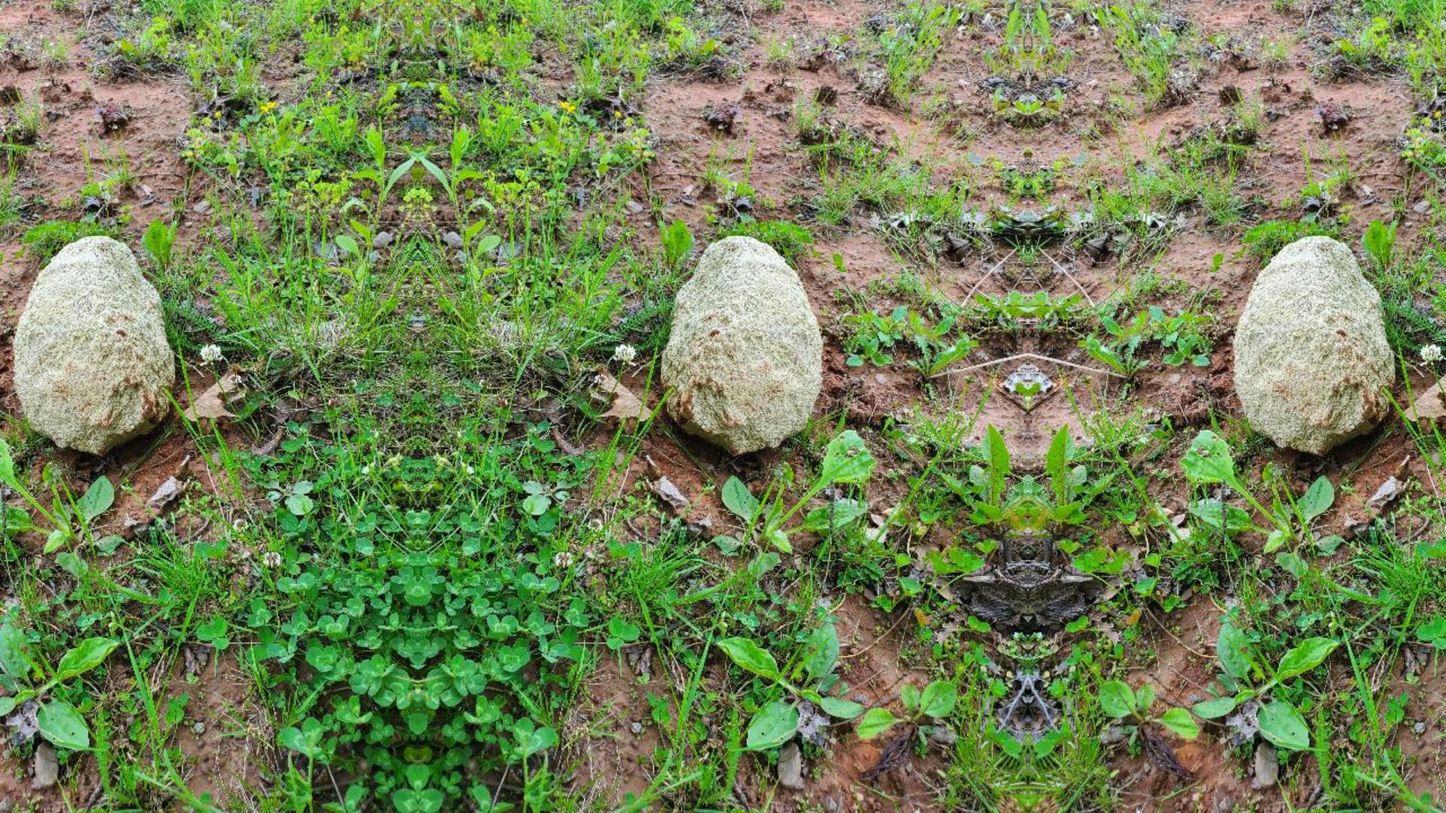rock: (661, 236, 821, 454), (14, 236, 174, 454), (1234, 237, 1394, 453)
